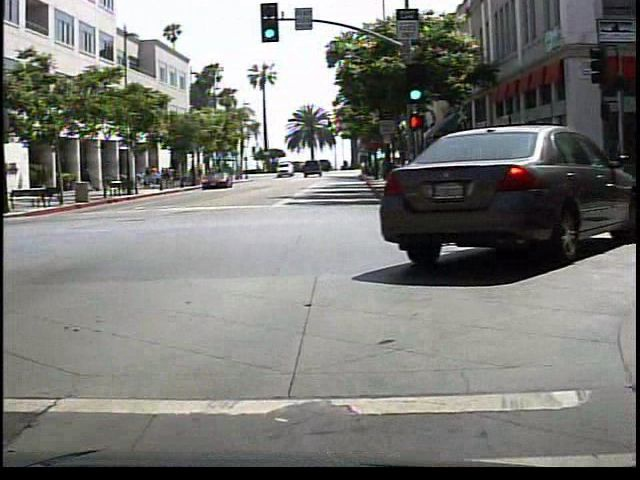person: (77, 160, 95, 192)
